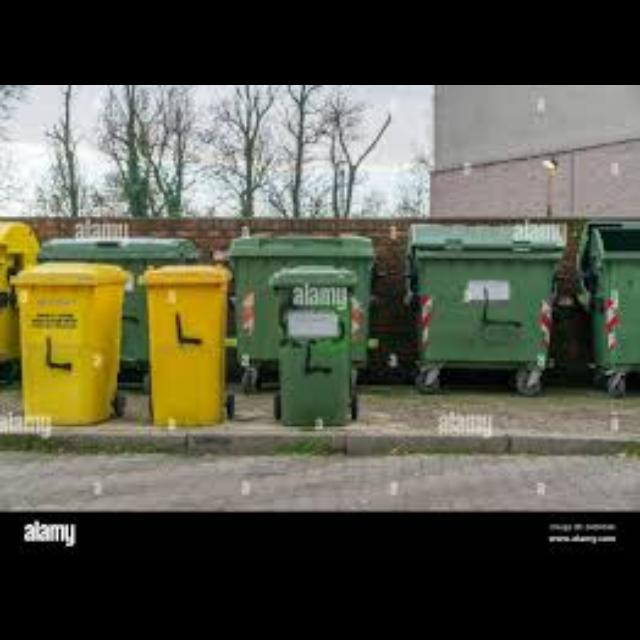Trash_Can_Closed: (405, 221, 569, 365), (39, 235, 198, 366), (10, 262, 129, 425), (233, 231, 375, 364), (141, 263, 230, 426), (270, 266, 357, 426), (0, 221, 38, 361)
Trash_Can_Empty: (587, 220, 640, 367)
